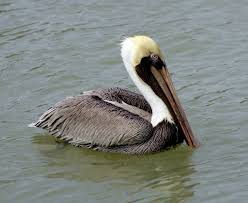pelican: (31, 35, 197, 151)
